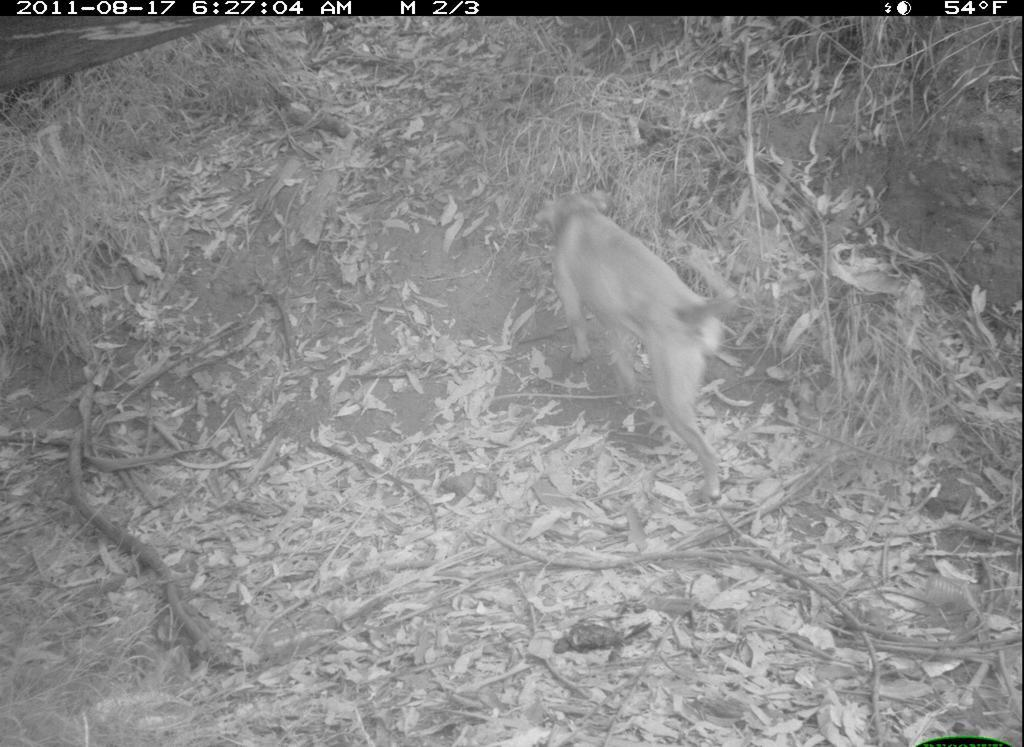dog: (533, 185, 740, 507)
